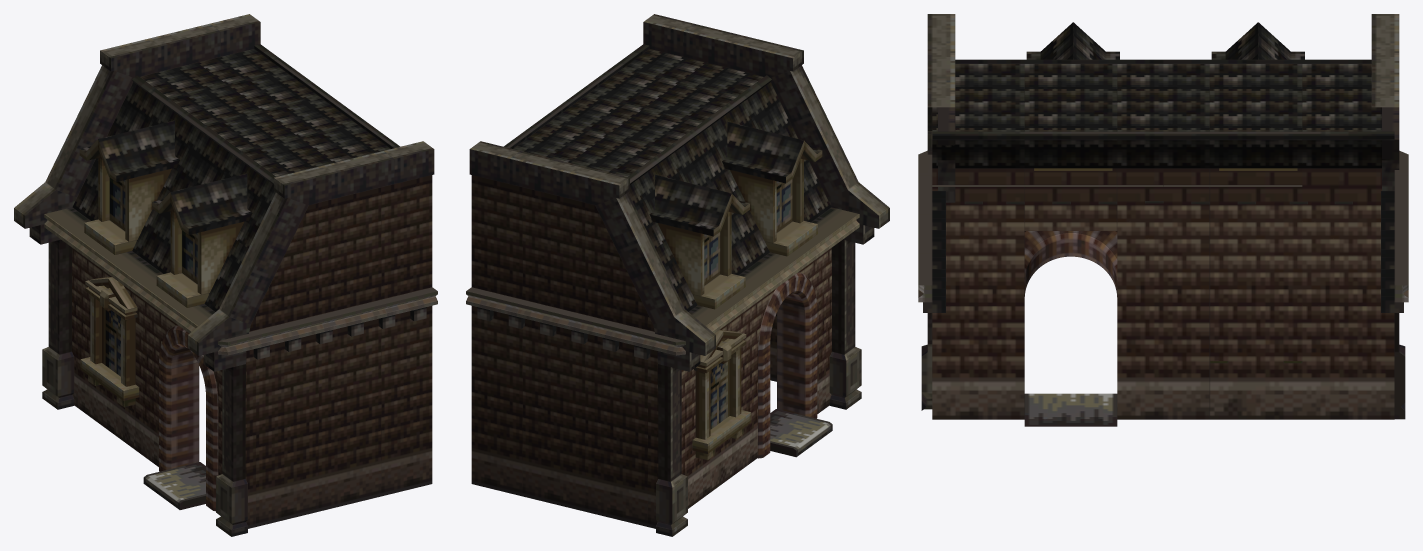
The model's file is EnvBdgMD_City_B_Outdoor_S_A_Redwall_A.FBX.
3 views of the same model, side by side, from view 1: azimuth 30°, elevation 25°; view 2: azimuth 150°, elevation 25°; view 3: azimuth 270°, elevation 25° (orthographic). The views are drawn at different scales.
Visible parts, largest first — view 1: EnvBdgMD_City_B_Outdoor_S_A_Redwall_A; view 2: EnvBdgMD_City_B_Outdoor_S_A_Redwall_A; view 3: EnvBdgMD_City_B_Outdoor_S_A_Redwall_A.
Boxes of the visible parts, x1,y1,x2,y2 form: EnvBdgMD_City_B_Outdoor_S_A_Redwall_A: [14, 14, 437, 536]; EnvBdgMD_City_B_Outdoor_S_A_Redwall_A: [466, 14, 889, 536]; EnvBdgMD_City_B_Outdoor_S_A_Redwall_A: [918, 14, 1408, 426].
Size of the model in its own units: 376 by 513 by 530.
Materials: 1 (1 with a texture image).
